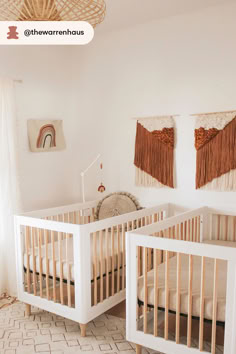crib: (15, 201, 168, 335), (126, 207, 235, 353)
